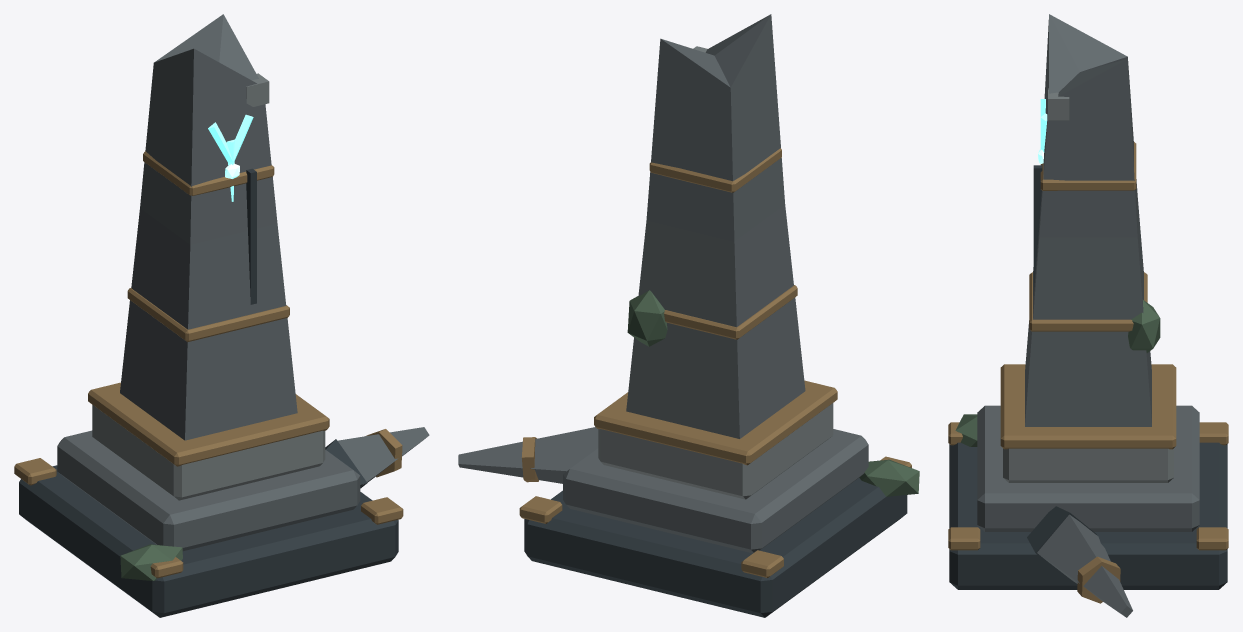
The model's file is warden_broken_obelisk.glb.
The picture shows the model from 3 angles, left to right: view 1: azimuth 30°, elevation 25°; view 2: azimuth 150°, elevation 25°; view 3: azimuth 270°, elevation 25°; orthographic projection. The views are drawn at different scales.
Visible parts, largest first — view 1: warden_broken_obelisk; view 2: warden_broken_obelisk; view 3: warden_broken_obelisk.
Part boxes in pixels (x1=…): warden_broken_obelisk: x1=14, y1=14, x2=429, y2=617; warden_broken_obelisk: x1=458, y1=14, x2=919, y2=617; warden_broken_obelisk: x1=948, y1=14, x2=1228, y2=617.
Size of the model in its own units: 1.01 by 1.3 by 0.655.
